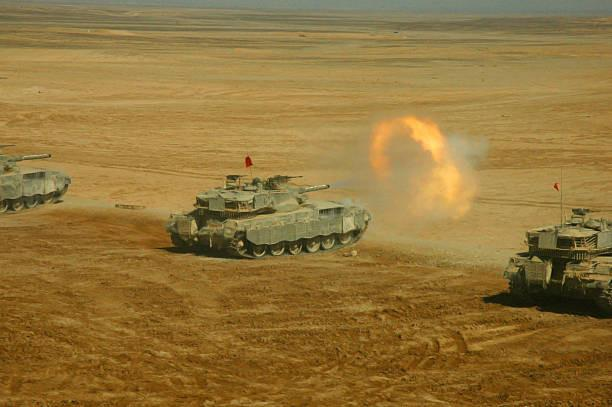tank: (167, 176, 371, 260), (504, 208, 611, 315), (1, 154, 72, 214)
